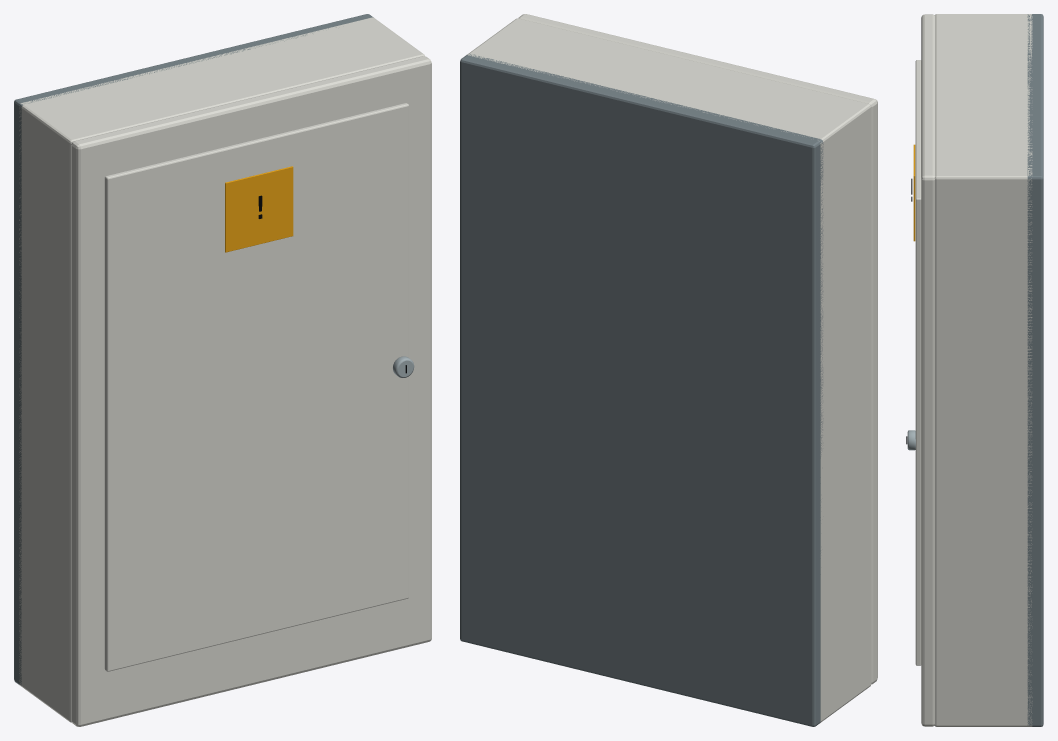
Rendered from OAA_ElectricalPanel.fbx.
The picture shows the model from 3 angles, left to right: view 1: azimuth 30°, elevation 25°; view 2: azimuth 150°, elevation 25°; view 3: azimuth 270°, elevation 25°; orthographic projection. The views are drawn at different scales.
Visible parts, largest first — view 1: Door_Hinge_Left.002_Mesh, Body; view 2: Body, Door_Hinge_Left.002_Mesh; view 3: Body, Door_Hinge_Left.002_Mesh.
Boxes of the visible parts, <box> form: Door_Hinge_Left.002_Mesh: <box>71,56,431,726</box>; Body: <box>14,14,424,722</box>; Body: <box>460,18,871,726</box>; Door_Hinge_Left.002_Mesh: <box>518,14,877,684</box>; Body: <box>935,14,1043,726</box>; Door_Hinge_Left.002_Mesh: <box>906,14,934,726</box>.
Size of the model in its own units: 0.46 by 0.72 by 0.1625.
